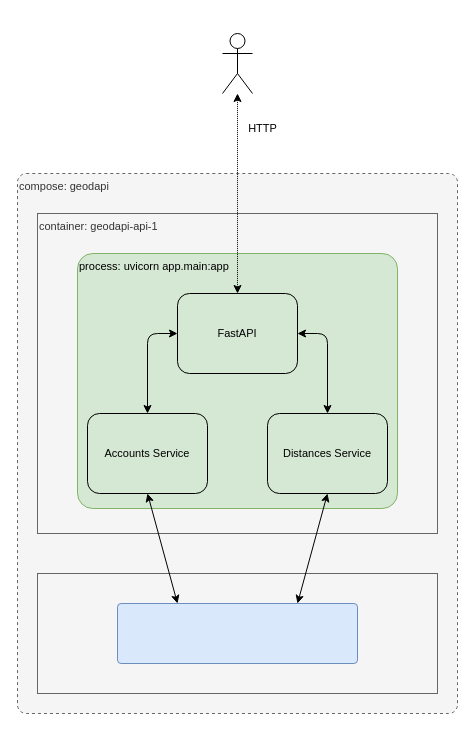
Image size: 475x731. Some labels were removed from this diagram. Here are the shapes that lost their labels. From the top down, the box of each, then its label:
(222, 32, 252, 94): User
(36, 572, 438, 694): container: geodapi-redis-1
(116, 602, 358, 664): Redis Server
